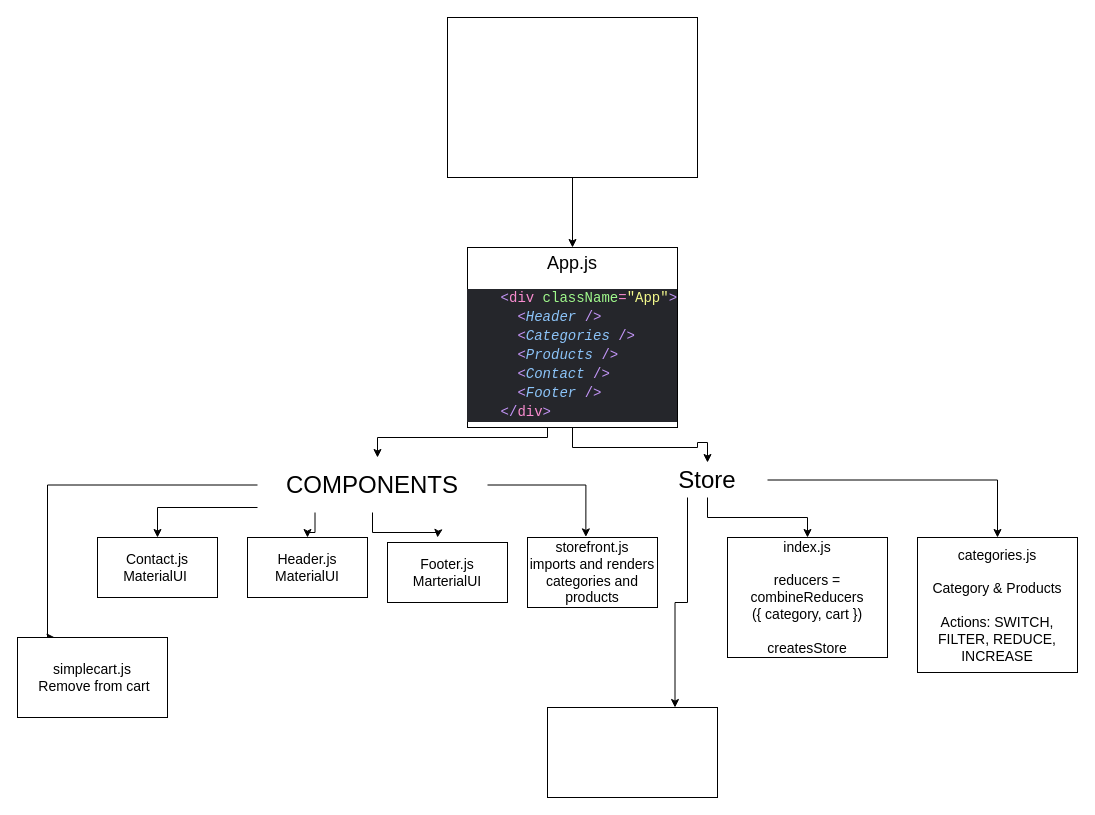
This 1095x815 diagram has some shape labels left out. Here are the shapes that lost their labels. From the top down, the box of each, then its label:
(446, 16, 698, 178): Index.js < Provider store = {store} > < CssBaseline /> < App /> </ Provider >
(546, 706, 718, 798): cart.js Initial State Action: ADD, REMOVE
